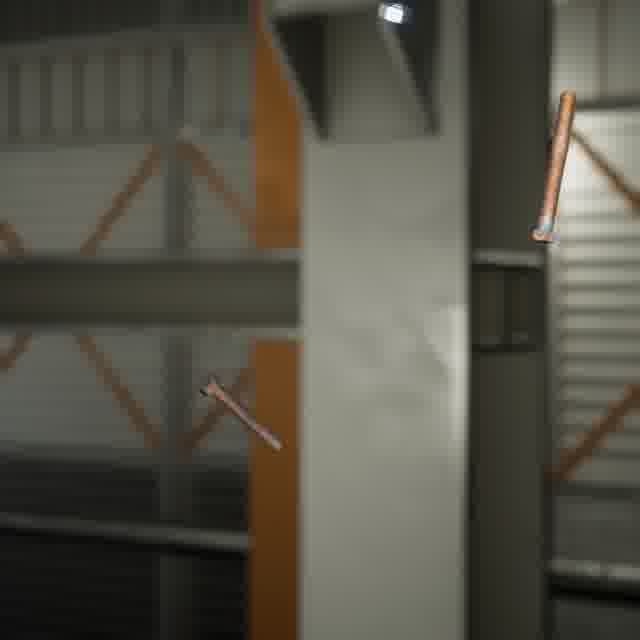bolt: (525, 87, 580, 248), (193, 367, 287, 455)
nut: (373, 0, 417, 29)
